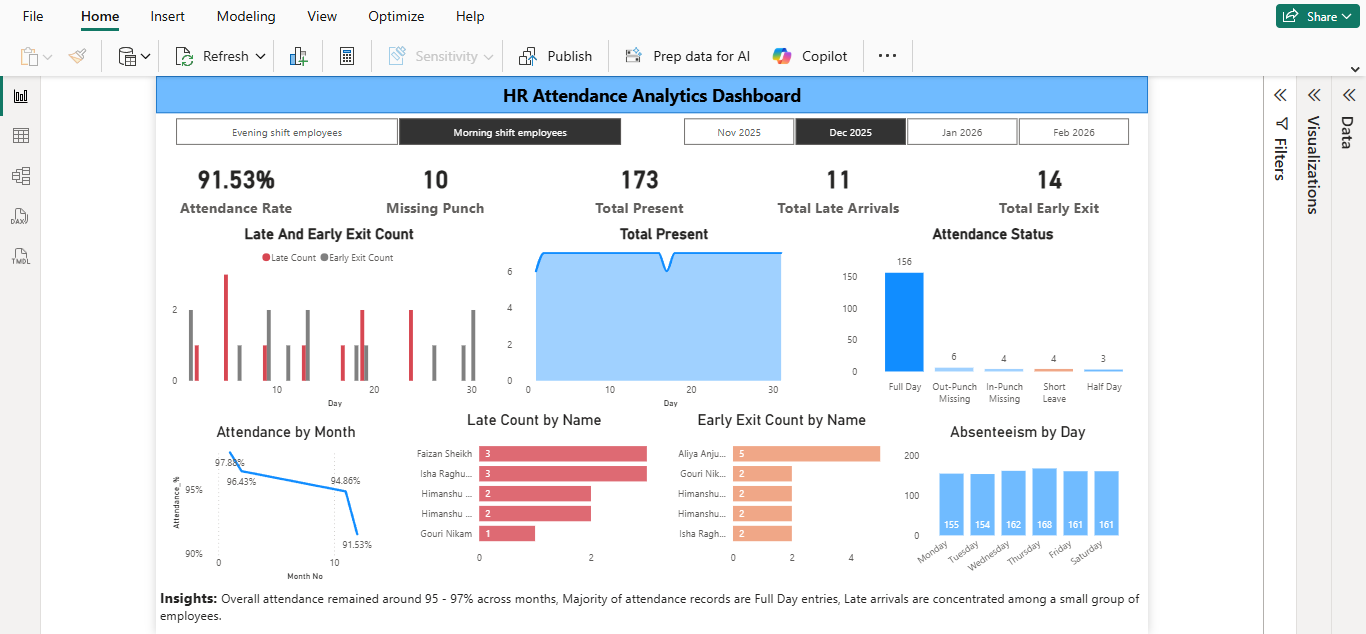

Layout of this report page (visuals, bound fields, positions):
{"tool":"powerbi","page":{"name":"Monthly Summary","canvas":[1280,720],"ordinal":0},"visuals":[{"type":"slicer","fields":{"Values":["shift.Shift_type"]},"box":[0,48,624,48],"z":0},{"type":"card","fields":{"Values":["Attendance_Log.Attendance_%"]},"box":[16,96,176,96],"z":1000},{"type":"card","fields":{"Values":["Attendance_Log.Missing_Punch_Total"]},"box":[272,96,176,96],"z":2000},{"type":"card","fields":{"Values":["Attendance_Log.Total_Present_Count"]},"box":[528,96,192,96],"z":3000},{"type":"card","fields":{"Values":["Attendance_Log.Late Count"]},"box":[784,96,192,96],"z":4000},{"type":"card","fields":{"Values":["Attendance_Log.Early Exit Count"]},"box":[1072,96,160,96],"z":5000},{"type":"stackedAreaChart","title":"Total Present","fields":{"Category":["Date-Table.Date.Variation.Date Hierarchy.Day"],"Y":["Attendance_Log.Total_Present_Count"]},"box":[448,192,416,240],"z":6000},{"type":"clusteredColumnChart","title":"Late And Early Exit Count","fields":{"Category":["Date-Table.Date.Variation.Date Hierarchy.Day"],"Y":["Attendance_Log.Late Count","Attendance_Log.Early Exit Count"]},"box":[16,192,416,240],"z":7000},{"type":"columnChart","title":"Attendance Status","fields":{"Category":["Attendance_Log.Status"],"Y":["CountNonNull(Attendance_Log.Name)"]},"box":[880,192,400,240],"z":8000},{"type":"slicer","fields":{"Values":["Date-Table.YearMonth"]},"box":[656,48,624,48],"z":9000},{"type":"clusteredBarChart","fields":{"Category":["Attendance_Log.Name"],"Y":["Attendance_Log.Late Count"]},"box":[320,432,336,208],"z":10000},{"type":"clusteredColumnChart","title":"Absenteeism by Day","fields":{"Y":["Attendance_Log.Absent_Final_Calculated"],"Category":["Attendance_Log.DayName"]},"box":[960,448,304,208],"z":11000},{"type":"clusteredBarChart","fields":{"Category":["Attendance_Log.Name"],"Y":["Attendance_Log.Early Exit Count"]},"box":[656,432,304,208],"z":12000},{"type":"lineChart","title":"Attendance by Month","fields":{"Category":["Date-Table.Month No"],"Y":["Attendance_Log.Attendance_%"]},"box":[16,448,304,208],"z":13000},{"type":"shape","box":[0,0,1280,48],"z":14000},{"type":"textbox","box":[0,656,1280,64],"z":15000}]}

Visuals, with their boxes on the page's 1280x720 design canvas (x1, y1, x2, y2). These are canvas units, not pixel positions in the 1366x634 screenshot, which may show the page scaled, cropped or inside an application window:
slicer - shift.Shift_type: (x1=0, y1=48, x2=624, y2=96)
card - Attendance_Log.Attendance_%: (x1=16, y1=96, x2=192, y2=192)
card - Attendance_Log.Missing_Punch_Total: (x1=272, y1=96, x2=448, y2=192)
card - Attendance_Log.Total_Present_Count: (x1=528, y1=96, x2=720, y2=192)
card - Attendance_Log.Late Count: (x1=784, y1=96, x2=976, y2=192)
card - Attendance_Log.Early Exit Count: (x1=1072, y1=96, x2=1232, y2=192)
"Total Present" stackedAreaChart: (x1=448, y1=192, x2=864, y2=432)
"Late And Early Exit Count" clusteredColumnChart: (x1=16, y1=192, x2=432, y2=432)
"Attendance Status" columnChart: (x1=880, y1=192, x2=1280, y2=432)
slicer - Date-Table.YearMonth: (x1=656, y1=48, x2=1280, y2=96)
clusteredBarChart - Attendance_Log.Name x Attendance_Log.Late Count: (x1=320, y1=432, x2=656, y2=640)
"Absenteeism by Day" clusteredColumnChart: (x1=960, y1=448, x2=1264, y2=656)
clusteredBarChart - Attendance_Log.Name x Attendance_Log.Early Exit Count: (x1=656, y1=432, x2=960, y2=640)
"Attendance by Month" lineChart: (x1=16, y1=448, x2=320, y2=656)
shape: (x1=0, y1=0, x2=1280, y2=48)
textbox: (x1=0, y1=656, x2=1280, y2=720)
